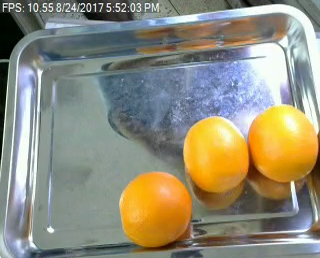Orange: (247, 104, 320, 184), (118, 171, 194, 247), (182, 114, 250, 192)
